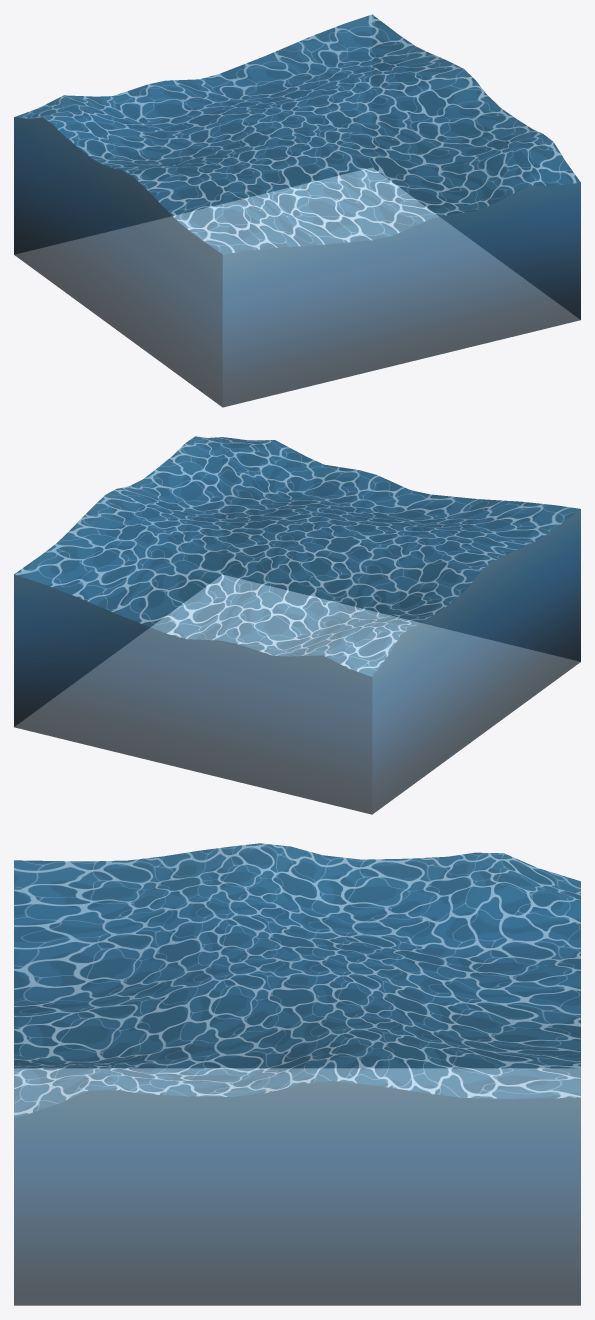
The model's file is water.gltf.
3 views of the same model, one above another, from view 1: azimuth 30°, elevation 25°; view 2: azimuth 150°, elevation 25°; view 3: azimuth 270°, elevation 25° (orthographic). The views are drawn at different scales.
Visible parts, largest first — view 1: Plane.002_26; view 2: Plane.002_26; view 3: Plane.002_26.
Boxes of the visible parts, x1=… form: Plane.002_26: x1=14, y1=14, x2=580, y2=407; Plane.002_26: x1=14, y1=436, x2=580, y2=814; Plane.002_26: x1=14, y1=843, x2=580, y2=1305.
Bounding box in the file's own units: 24.9 × 11 × 25.12.
2 materials, 2 textured.
